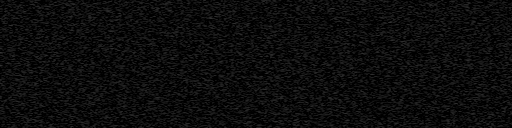wv_am: (345, 60, 351, 110), (345, 0, 350, 33), (345, 118, 350, 128), (345, 50, 350, 59), (345, 34, 350, 42), (345, 111, 350, 117), (345, 45, 351, 49)
wv_cw: (441, 0, 447, 128), (271, 0, 276, 128)
wv_usb: (83, 1, 89, 128)
wv_wbfm: (285, 0, 300, 128)
